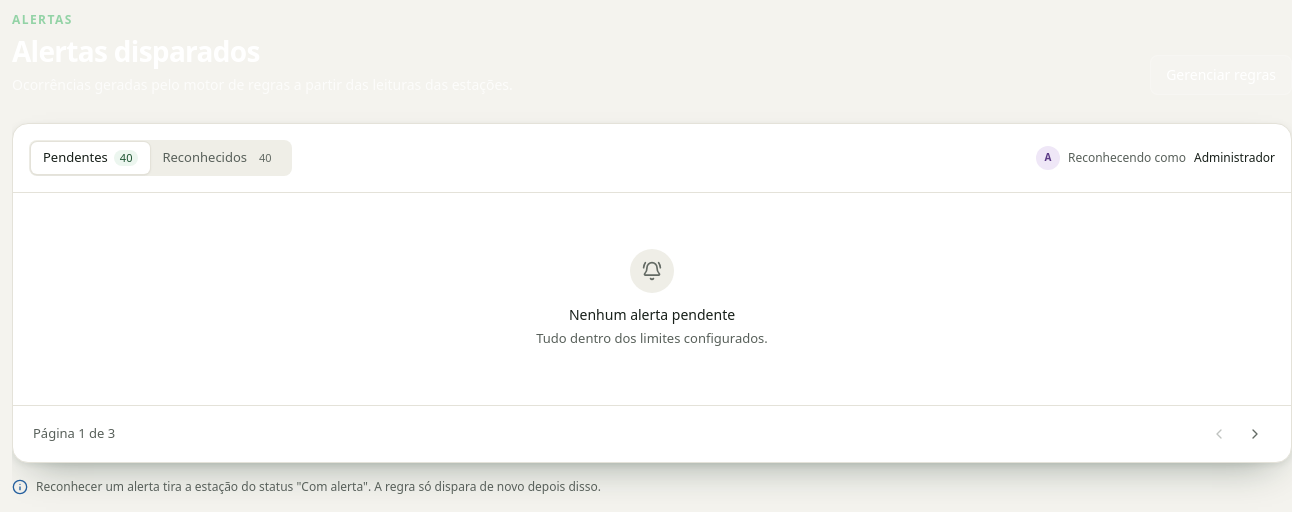
Test: AlertsPage › pagina
Click the button named "Próxima página": click(1255, 434) [1239, 418, 1271, 450]
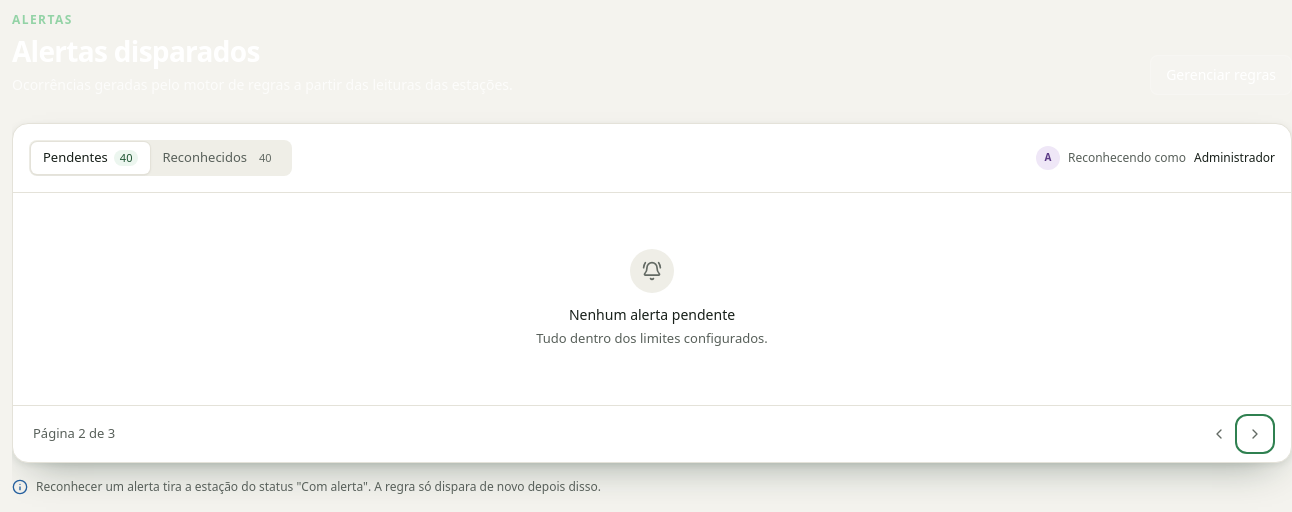
Check: the text "Página 2 de 3" is shown, box [33, 424, 115, 443]
Click the button named "Página anterior": click(1219, 434) [1203, 418, 1235, 450]
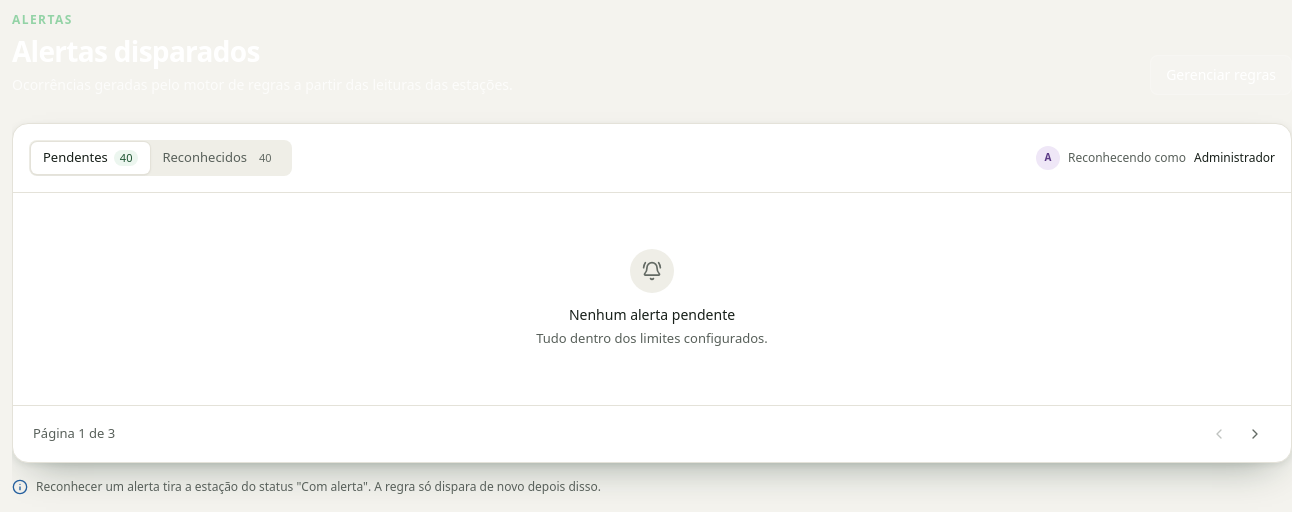
Check: the text "Página 1 de 3" is shown, box [33, 424, 115, 443]
